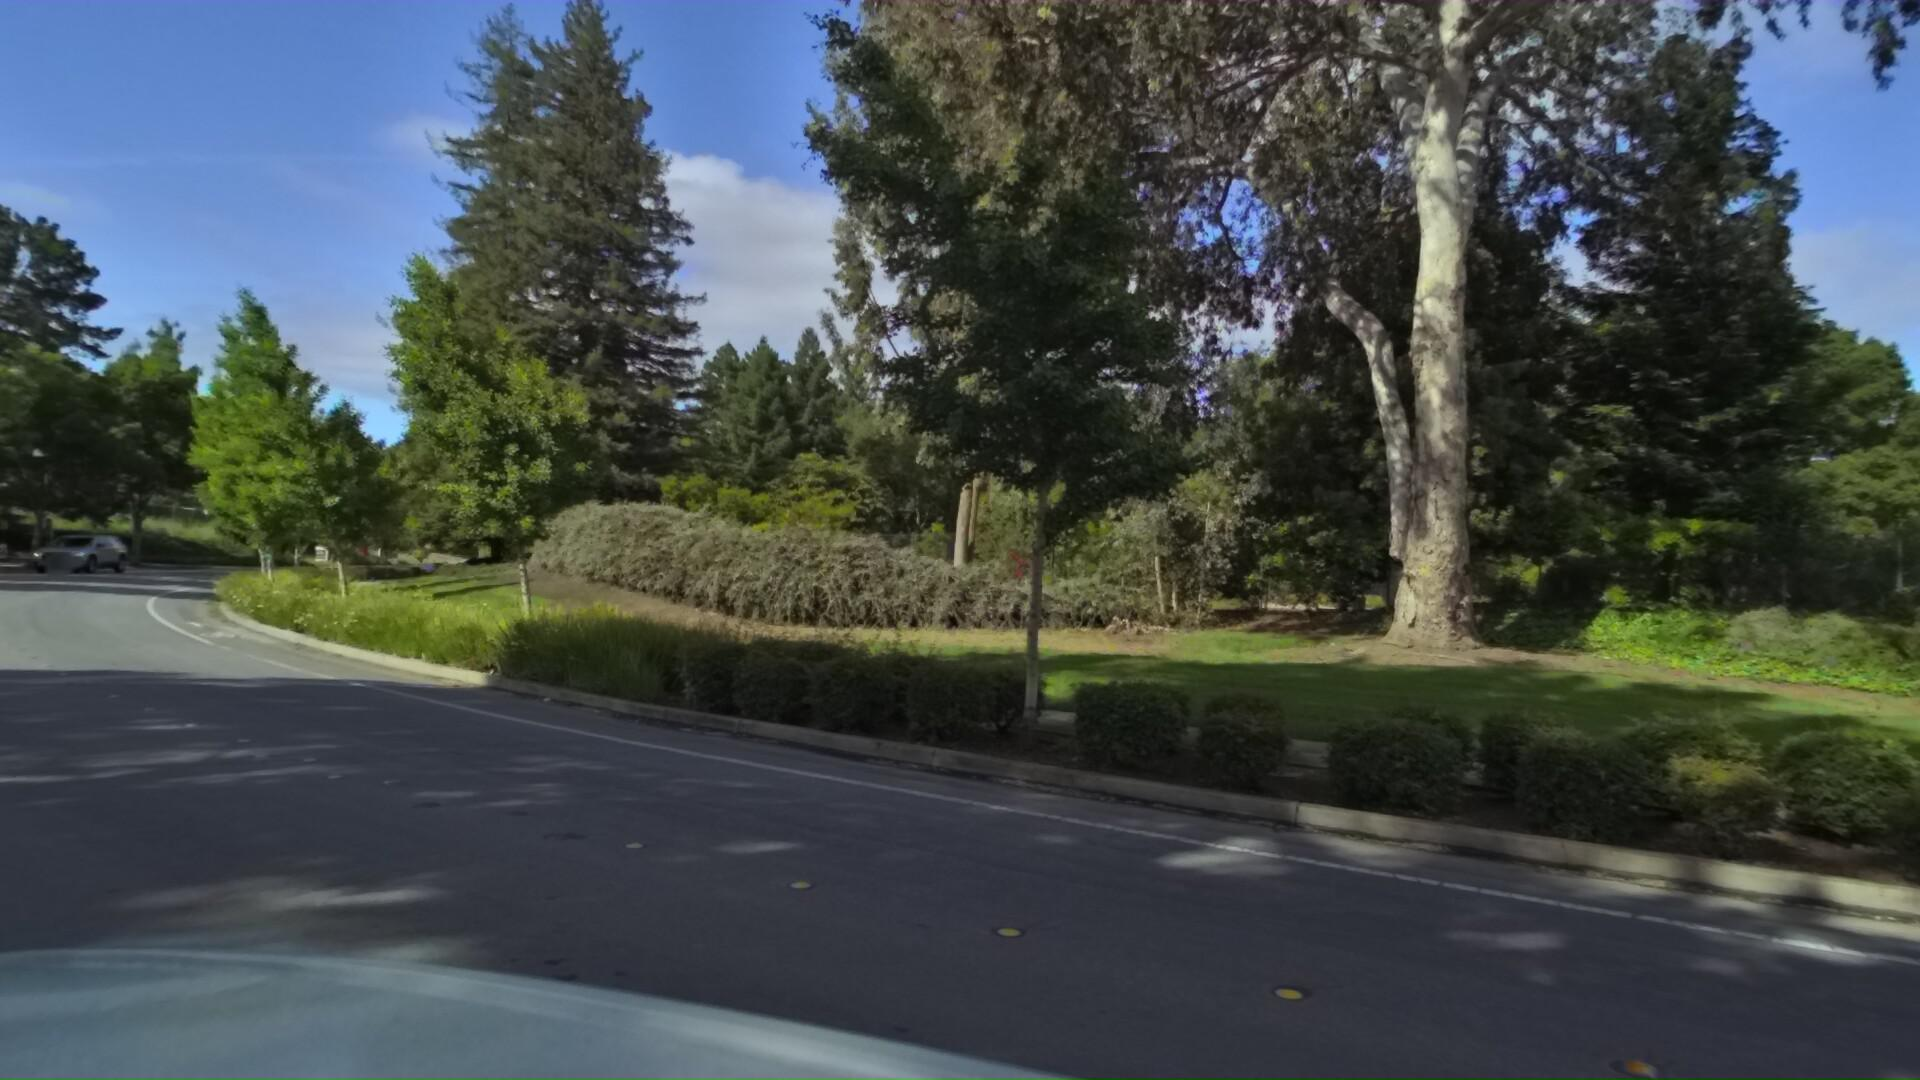car: (29, 530, 141, 575)
